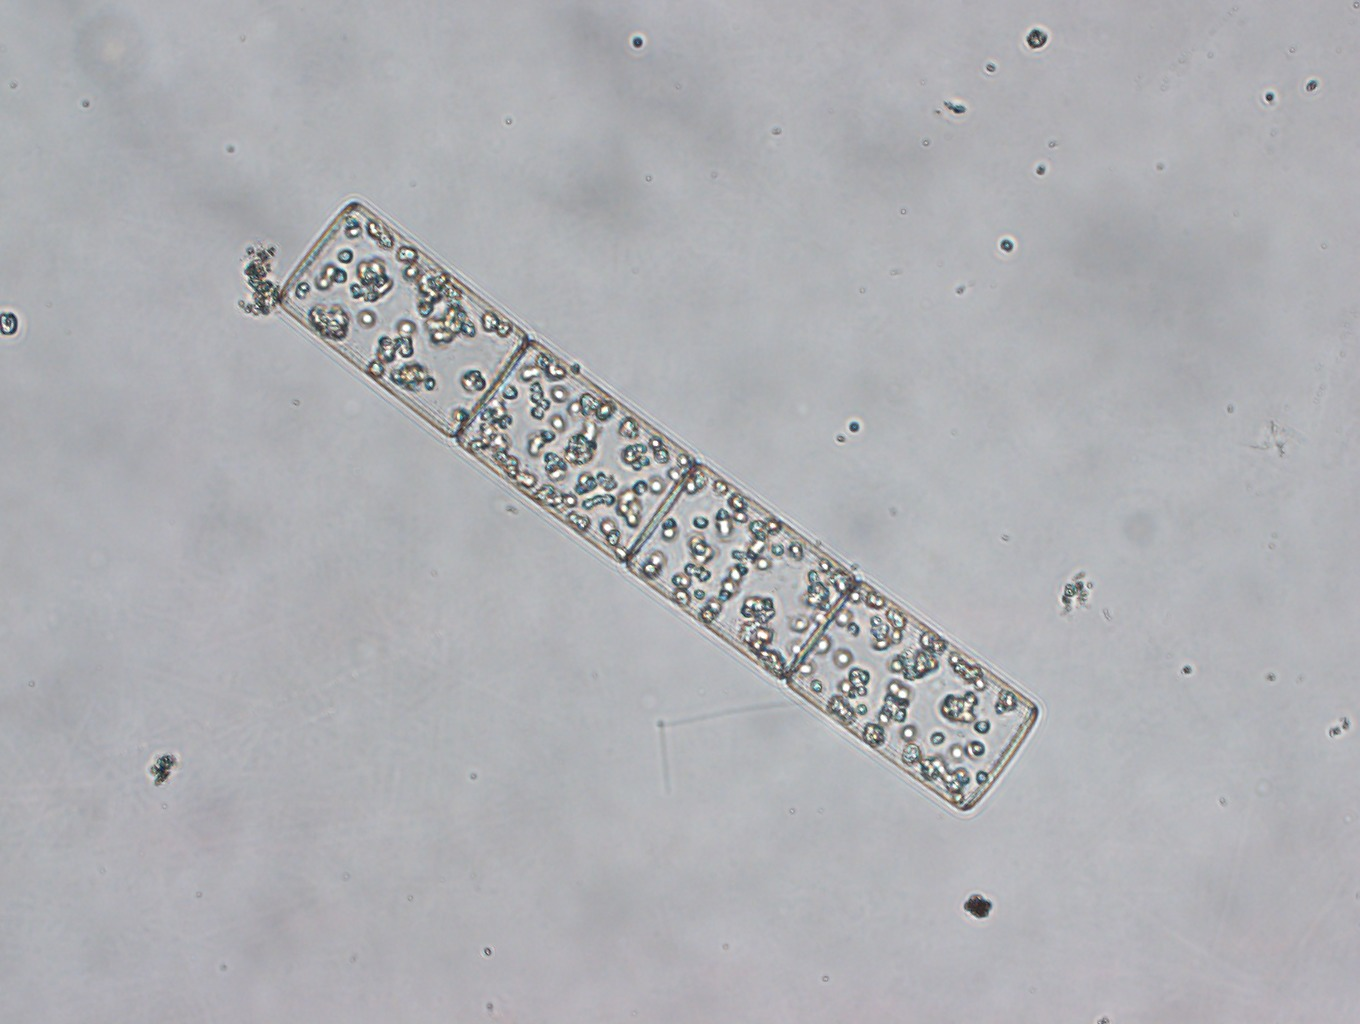guinardia flaccida: (277, 200, 1041, 811)
